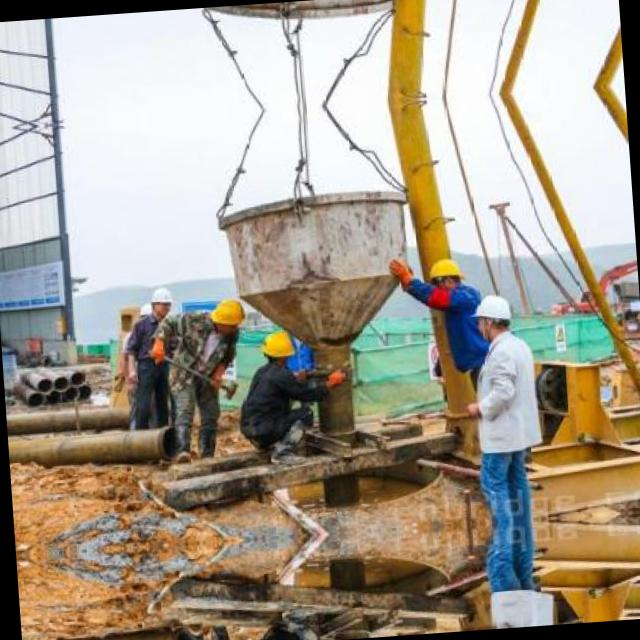helmet: (205, 294, 249, 338), (472, 290, 512, 338), (258, 325, 296, 364), (427, 255, 462, 293), (146, 282, 177, 318)
